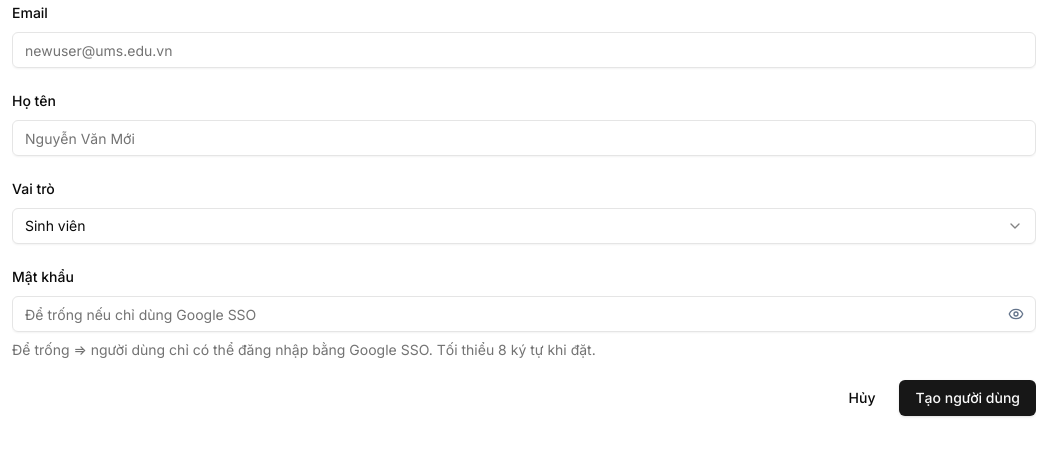
Test: UserCreateForm — Admin create-user flow (FE-S15) › M31-FE-S15-X3: displayName with digits → inline field error, no navigate
Step 1. Type "digitname@ums.edu.vn" into the field labelled "Email" → (524, 50), box [12,32,1036,68]
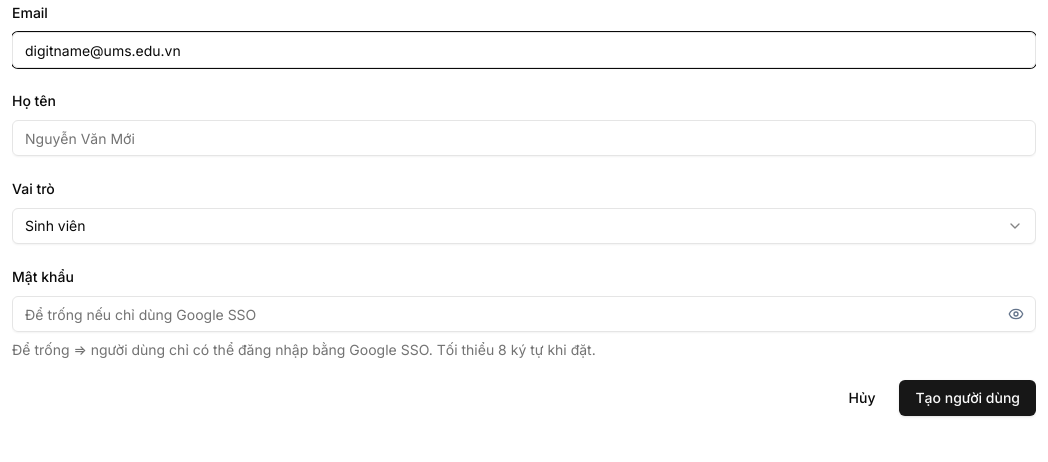
Step 2. Type "Nguyen Van 123" into the field labelled "Họ tên" → (524, 138), box [12,120,1036,156]
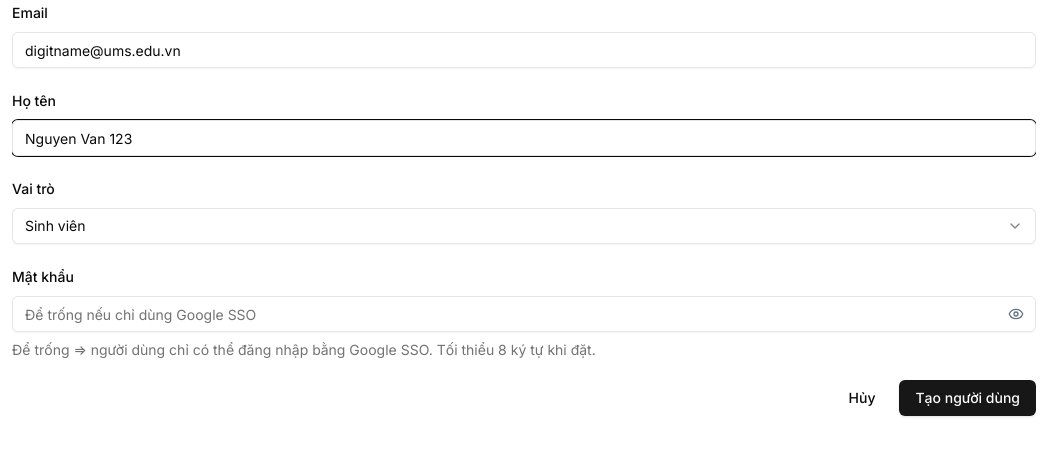
Step 3. Click the button "Tạo người dùng" → (968, 398), box [900,380,1036,416]
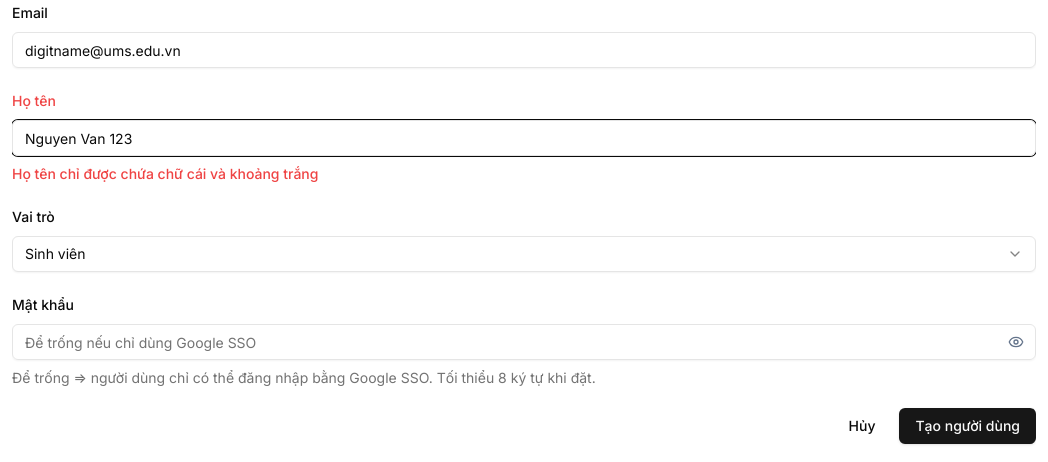
Result: the text "Họ tên chỉ được chứa chữ cái và khoảng trắng" is shown at [12,165,318,182]
